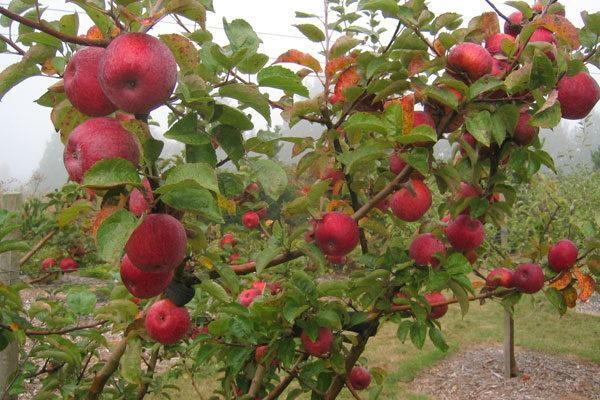apple: (96, 32, 178, 117), (62, 116, 144, 182), (117, 210, 186, 271), (62, 47, 114, 114), (121, 255, 171, 297), (144, 298, 190, 343), (556, 71, 599, 119), (390, 177, 434, 222), (315, 211, 358, 256), (444, 42, 492, 79), (446, 214, 484, 252), (408, 234, 446, 266), (297, 326, 331, 356), (527, 28, 558, 60), (547, 240, 577, 269), (514, 263, 544, 292), (488, 267, 513, 298), (347, 365, 371, 389)
